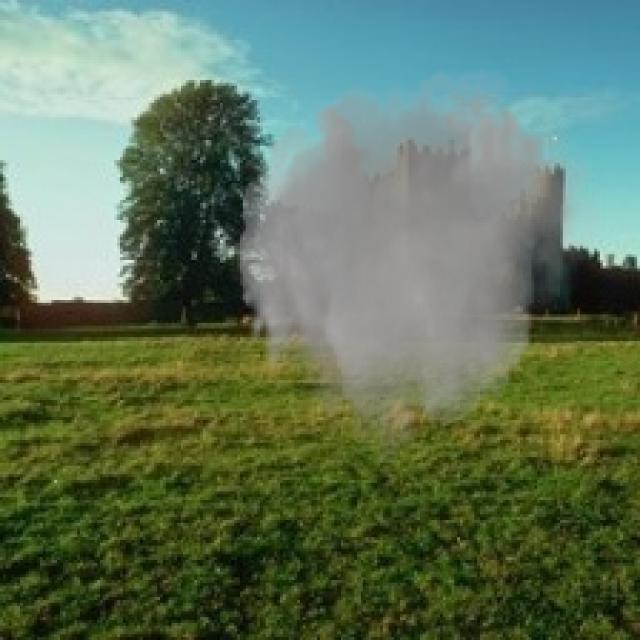smoke: (228, 52, 606, 474)
